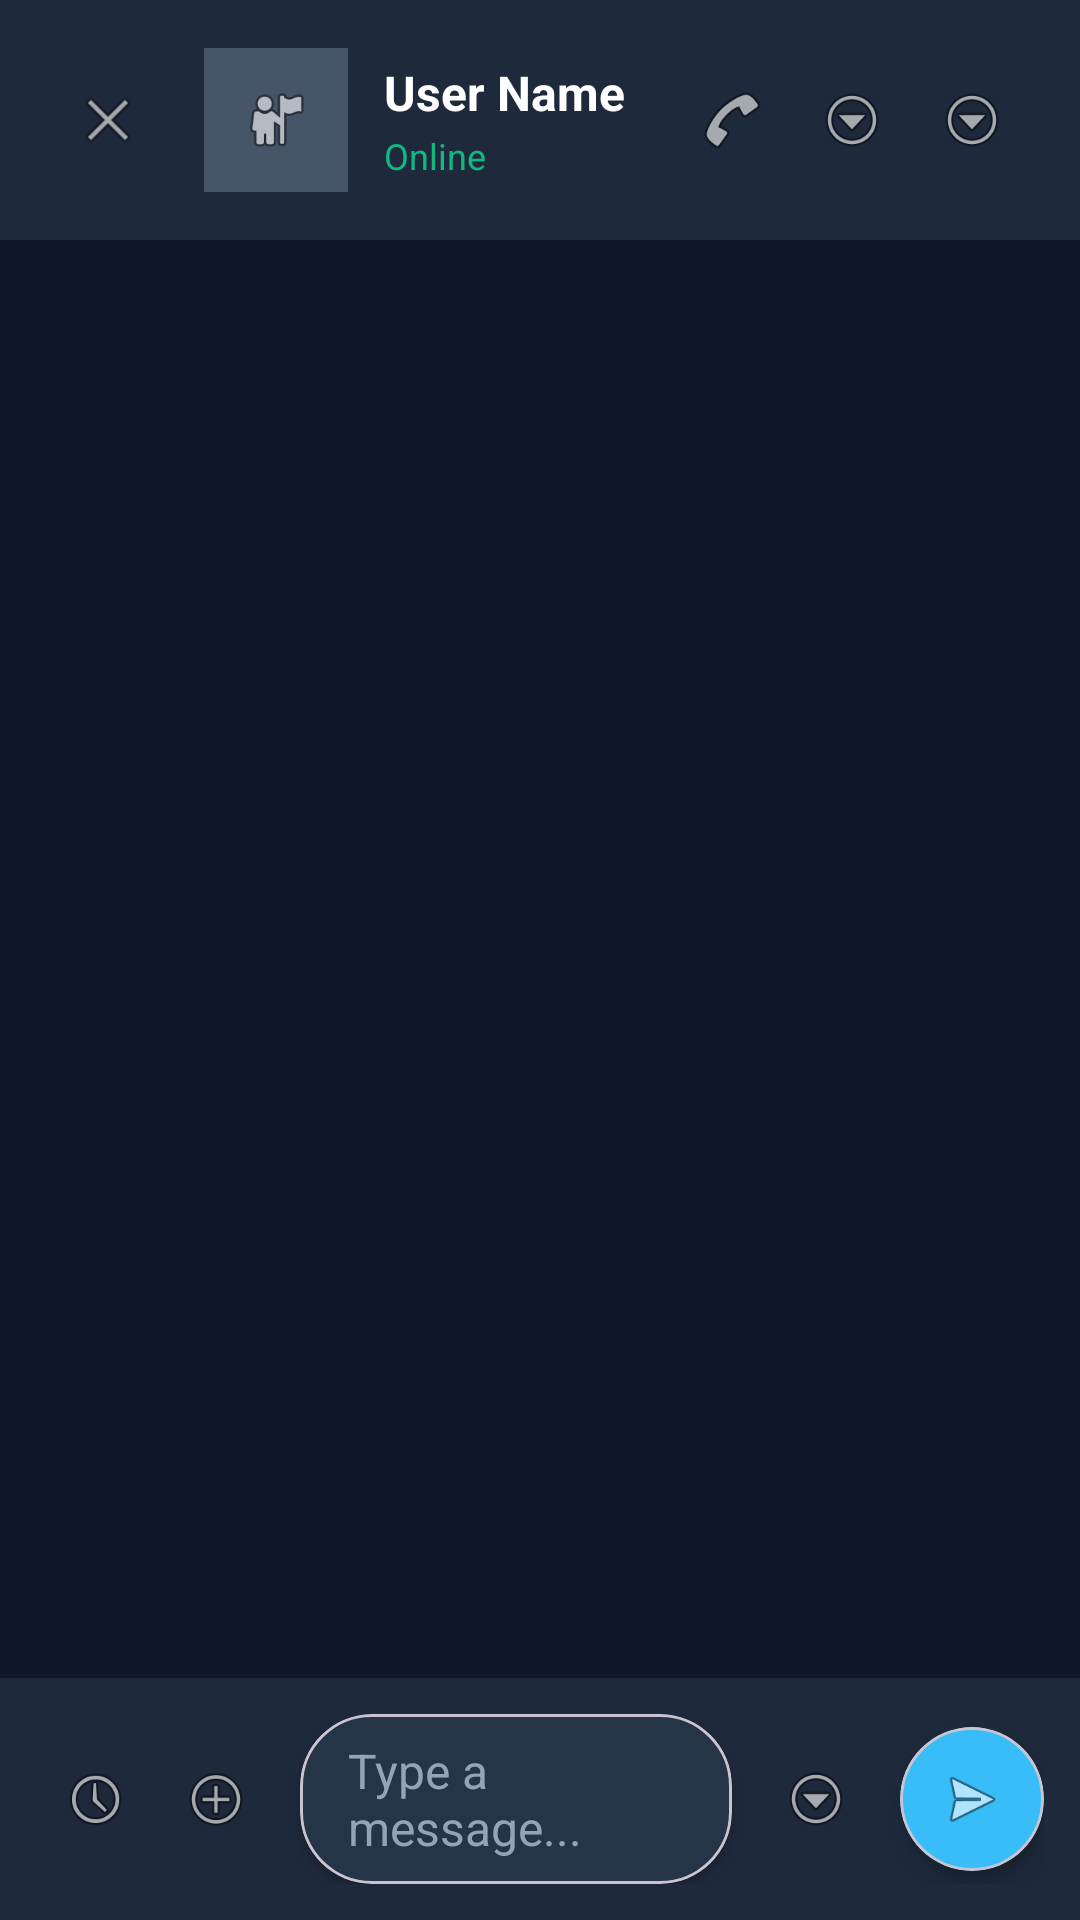

Where to tap for icons on this 1080 × 1920 app screen, as point (x, y):
add: point (216, 1799)
call: point (732, 120)
close clear cancel: point (108, 120)
more: point (852, 120), point (972, 120), point (816, 1799)
recent history: point (95, 1799)
send: point (972, 1799)
